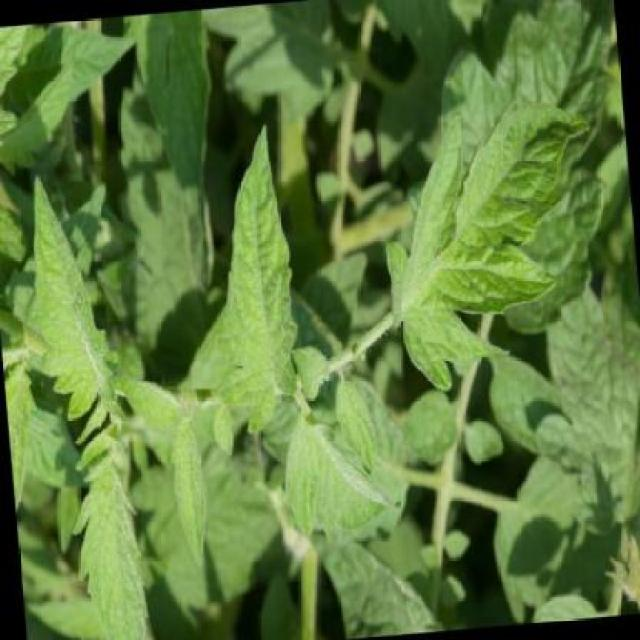Healthy Leaf: (329, 92, 594, 377), (0, 150, 138, 449), (183, 114, 306, 448), (268, 372, 406, 570)
